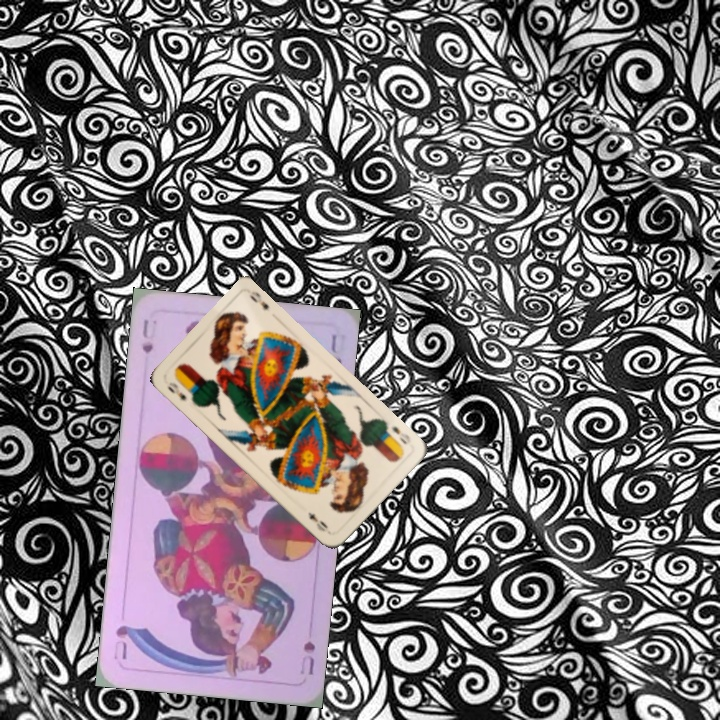EO: (388, 422, 413, 447), (164, 378, 189, 403)
SU: (296, 637, 318, 678), (138, 315, 156, 356)
